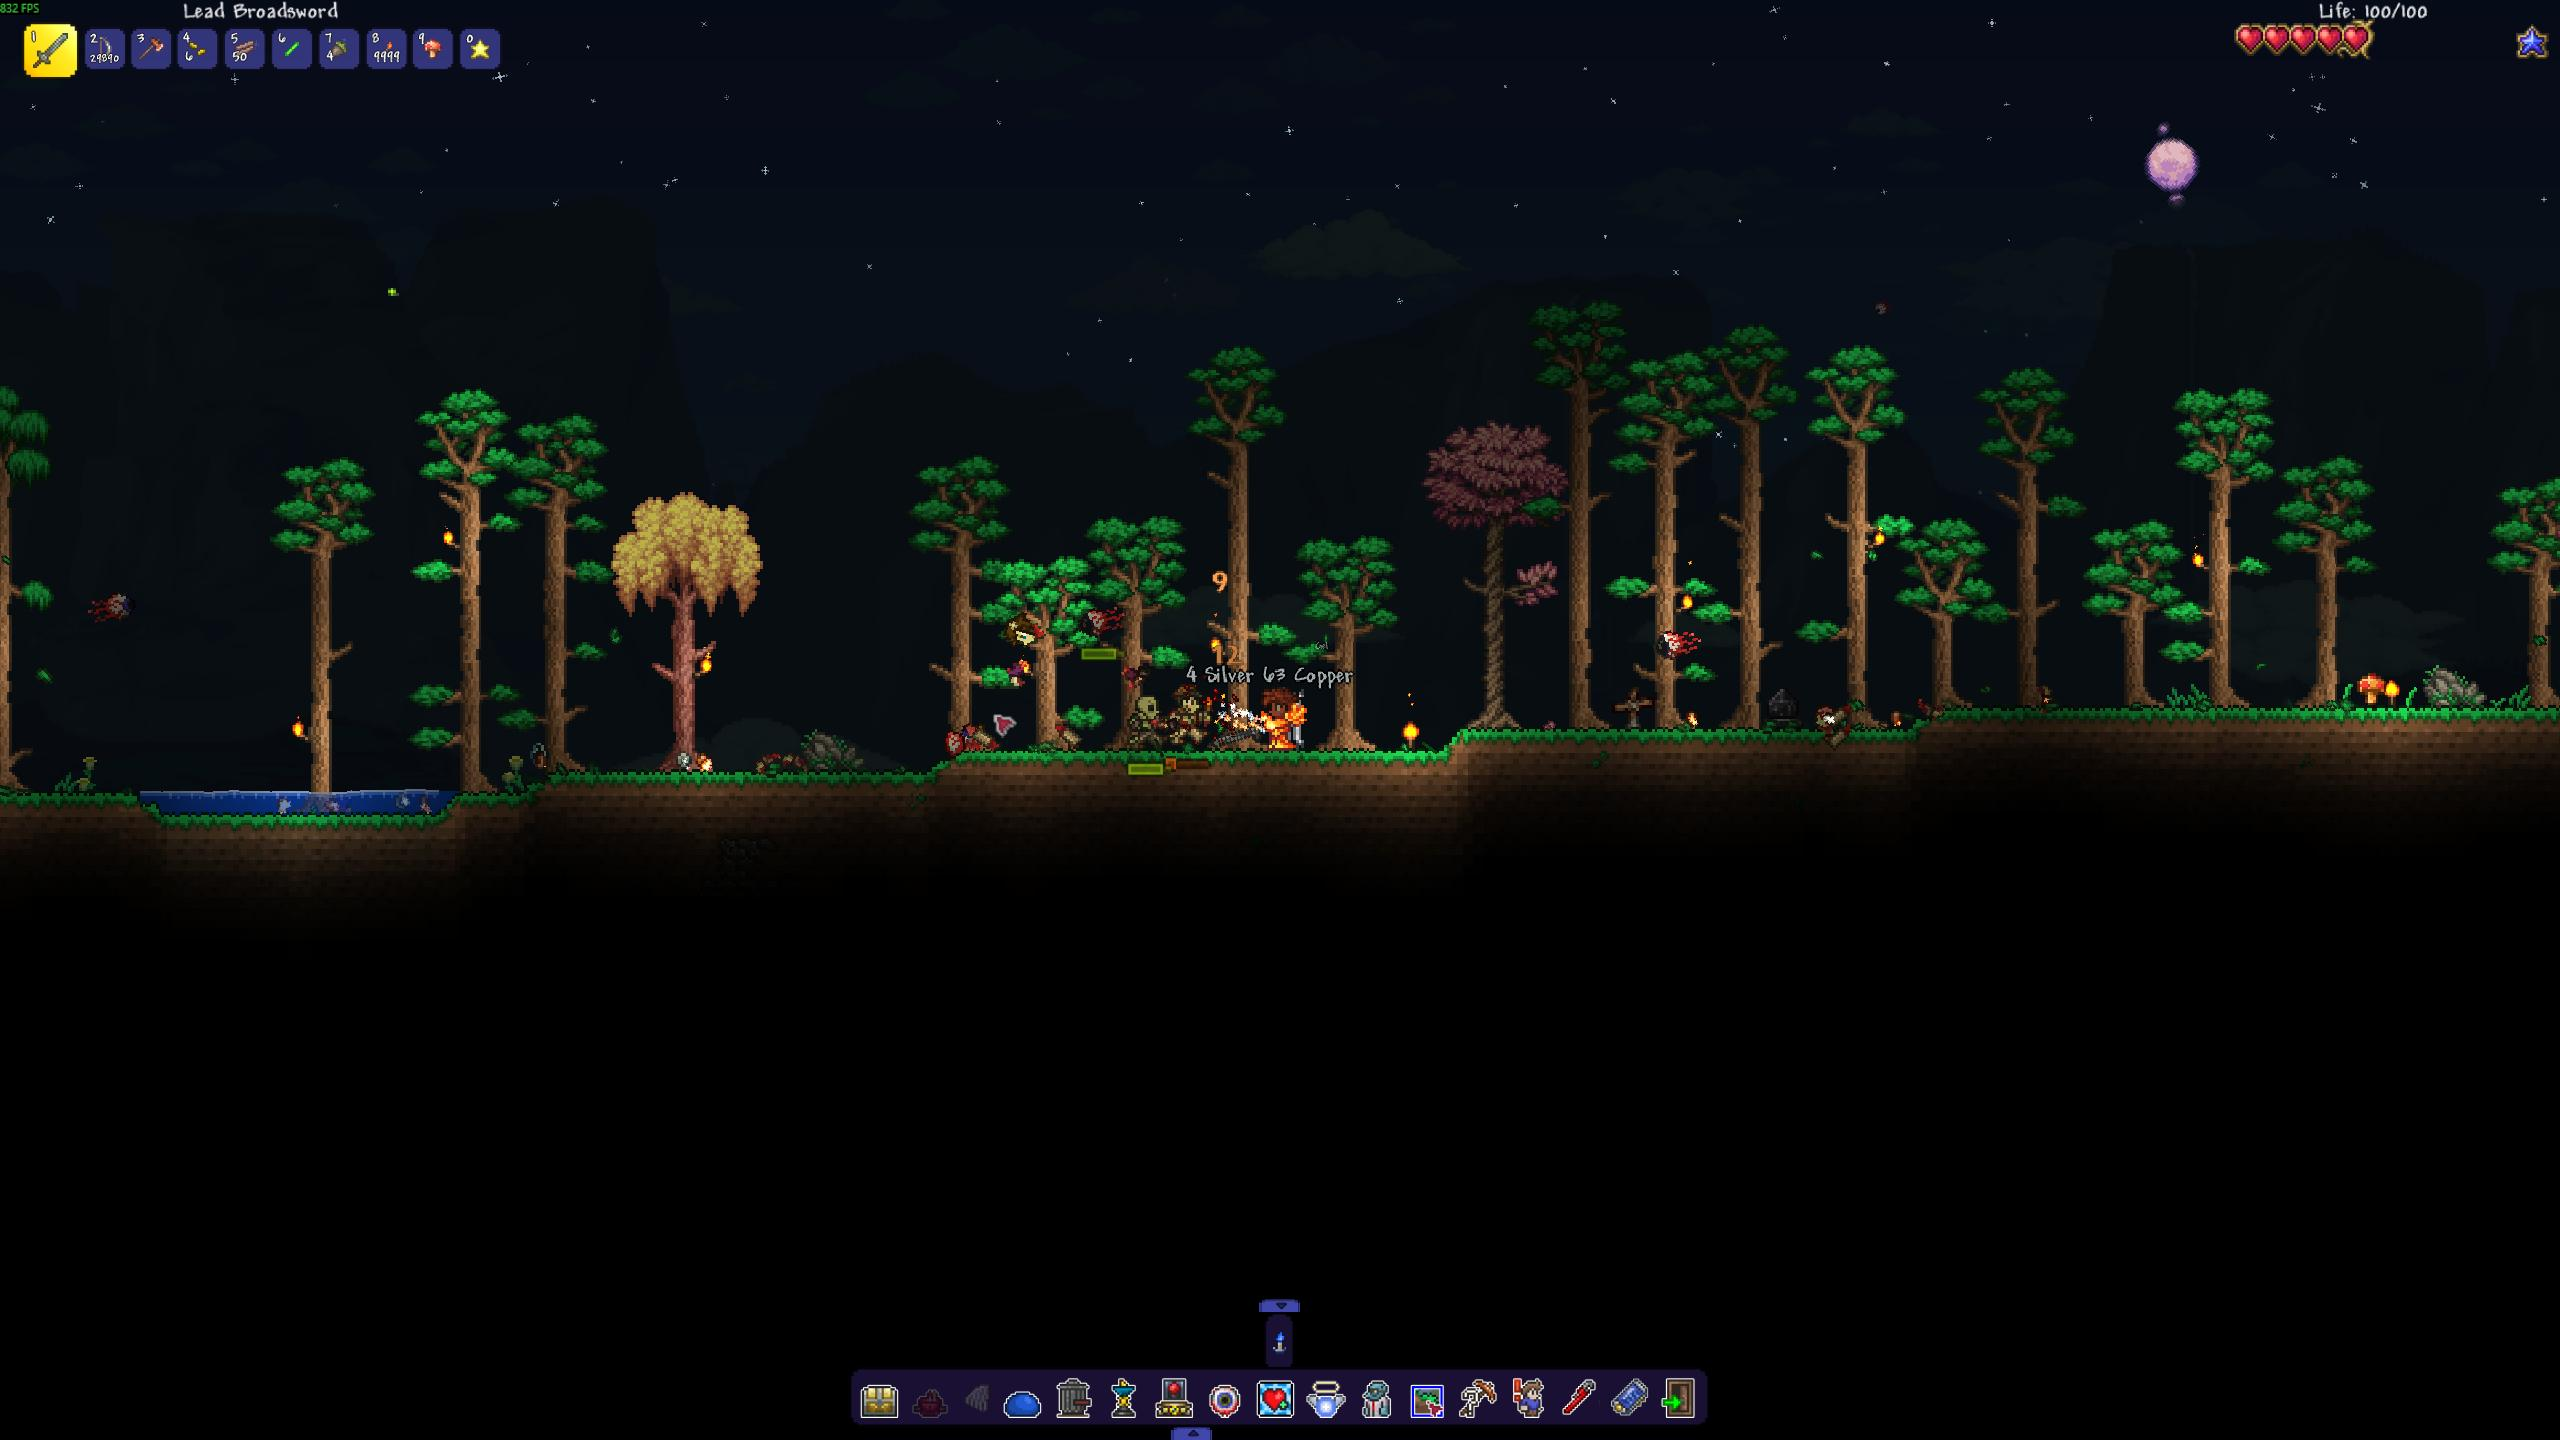Demon Eye: (79, 589, 142, 624), (1076, 608, 1125, 642), (1653, 626, 1704, 658)
Zombie: (1164, 679, 1208, 753), (1127, 691, 1167, 753)
